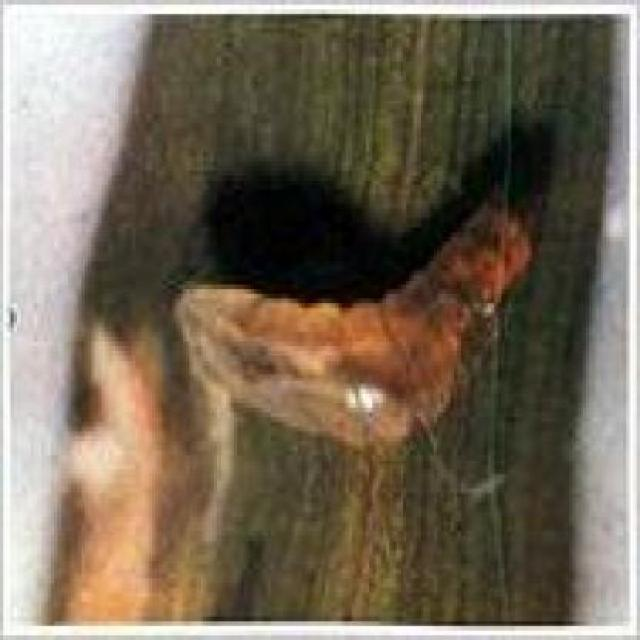whorl-maggot: (174, 188, 536, 440)
